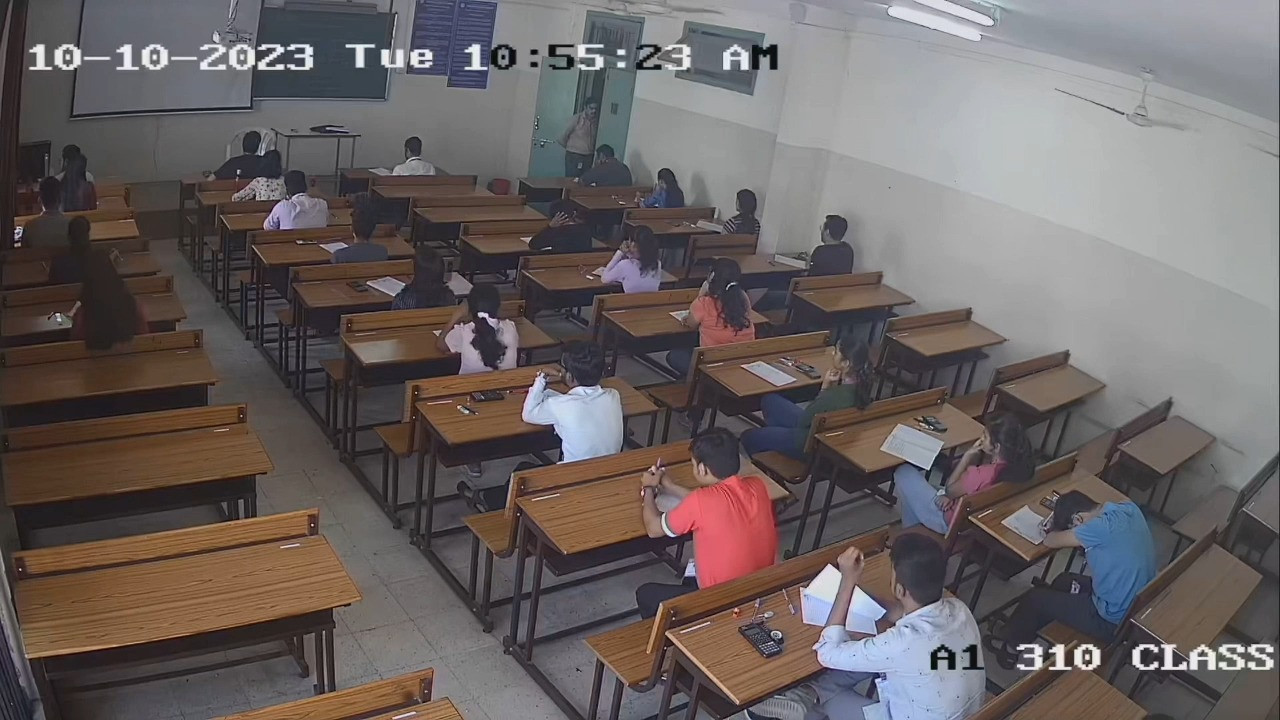cell-phones: (737, 619, 781, 658), (919, 409, 951, 439), (469, 388, 506, 403), (796, 362, 821, 379), (346, 279, 370, 294)
person: (810, 530, 986, 720), (515, 340, 632, 465), (940, 415, 1035, 496), (798, 336, 874, 410), (388, 243, 458, 312)
